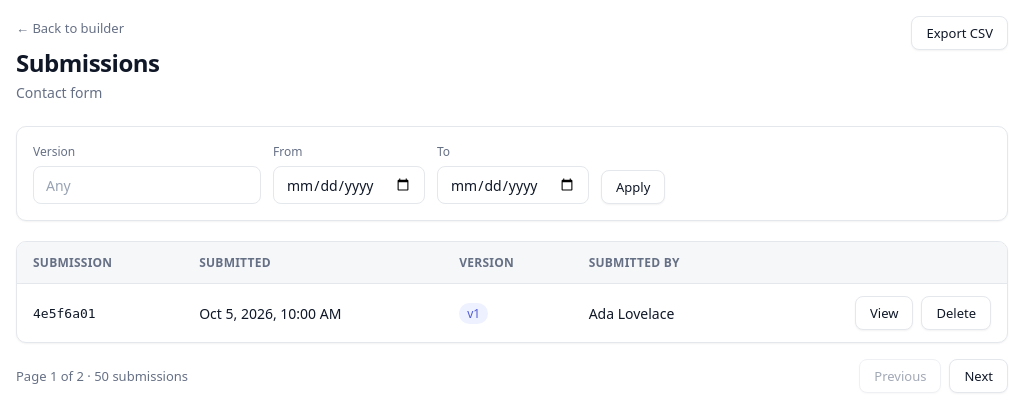
Test: SubmissionsPage › paginates with Previous and Next, disabling them at the ends
Expected: the table is shown, [17,242,1007,342]
Expected: the button "Previous" is disabled, [859,359,941,393]
Step 1. Click the button "Next" → (979, 376), box [950,359,1008,393]
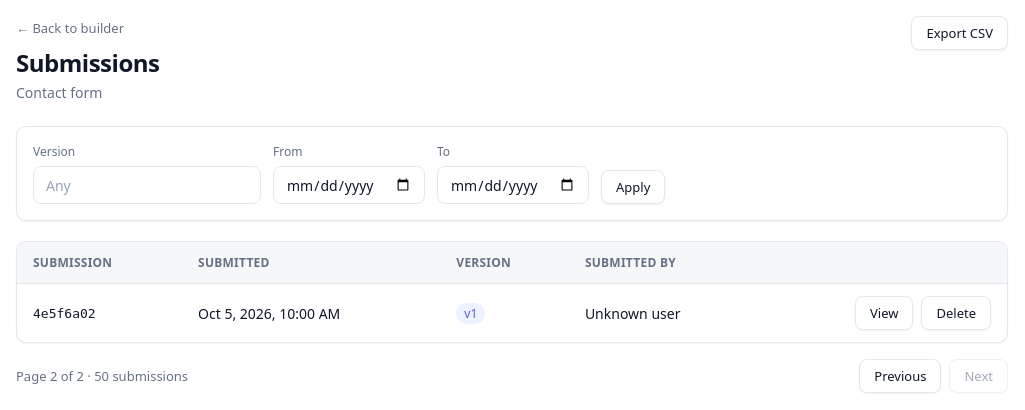
Result: the text "Page 2 of 2 · 50 submissions" is shown at [16,367,188,385]
Result: the button "Next" is disabled at [950,359,1008,393]
Result: the button "Previous" is enabled at [859,359,941,393]
